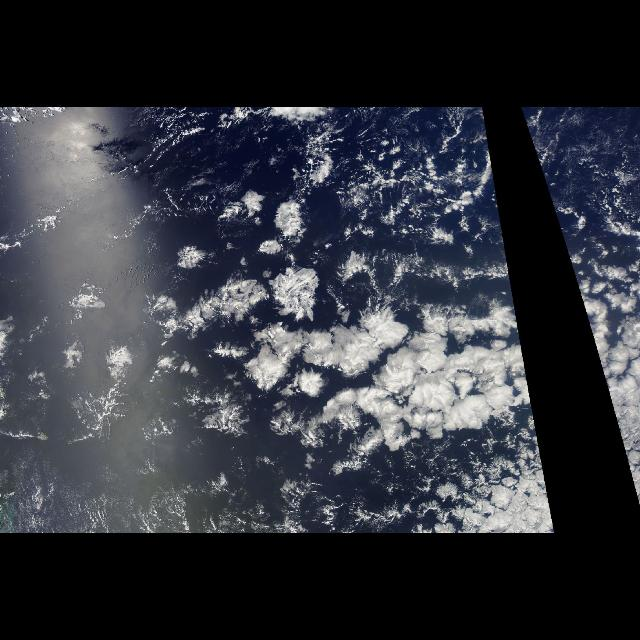Flower: (205, 199, 543, 471), (551, 198, 577, 284)
